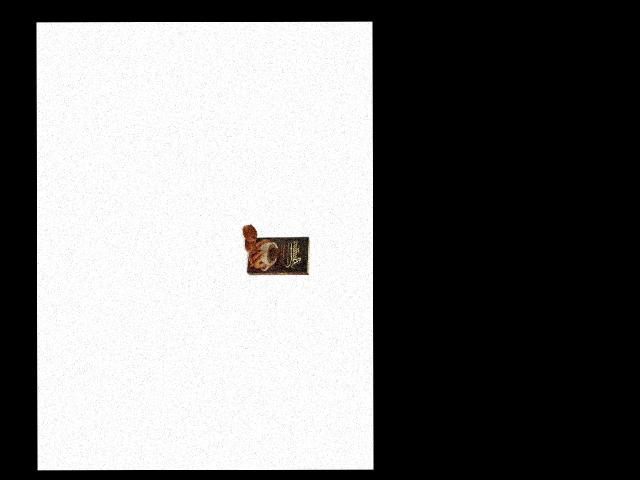chocolate: (245, 231, 312, 277)
